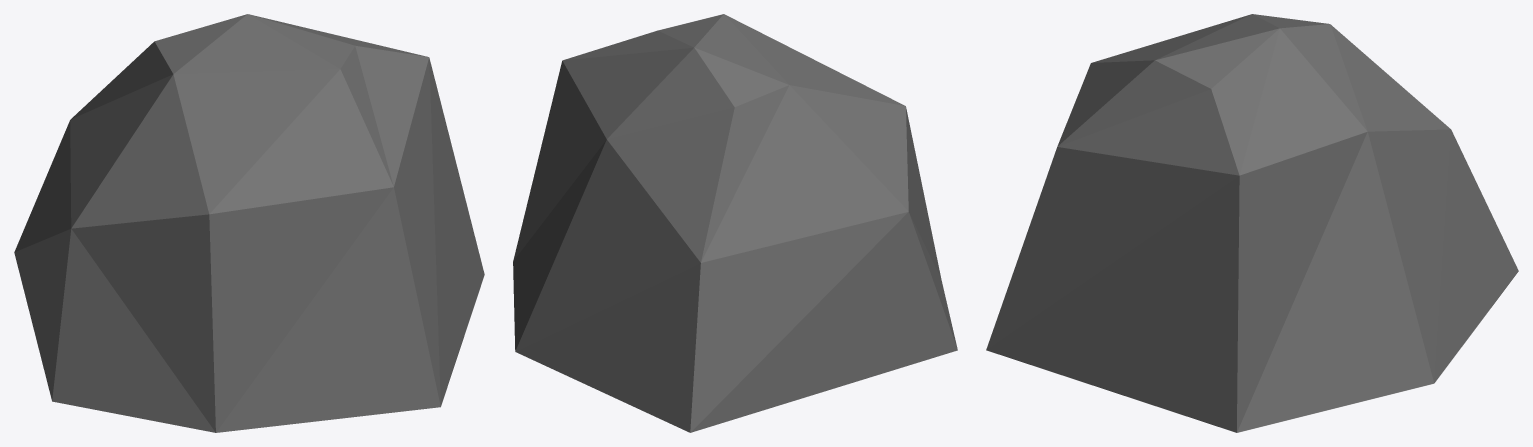
File: Stone_A_17.FBX
3 views of the same model, side by side, from view 1: azimuth 30°, elevation 25°; view 2: azimuth 150°, elevation 25°; view 3: azimuth 270°, elevation 25° (orthographic). The views are drawn at different scales.
Parts seen in each view (by area): view 1: Stone_A_17; view 2: Stone_A_17; view 3: Stone_A_17.
Boxes of the visible parts, box(x1,y1,x2,y2) form: Stone_A_17: box(14, 14, 484, 432); Stone_A_17: box(513, 14, 957, 432); Stone_A_17: box(986, 14, 1518, 432).
Bounding box in the file's own units: 3.85 × 2.41 × 3.89.
